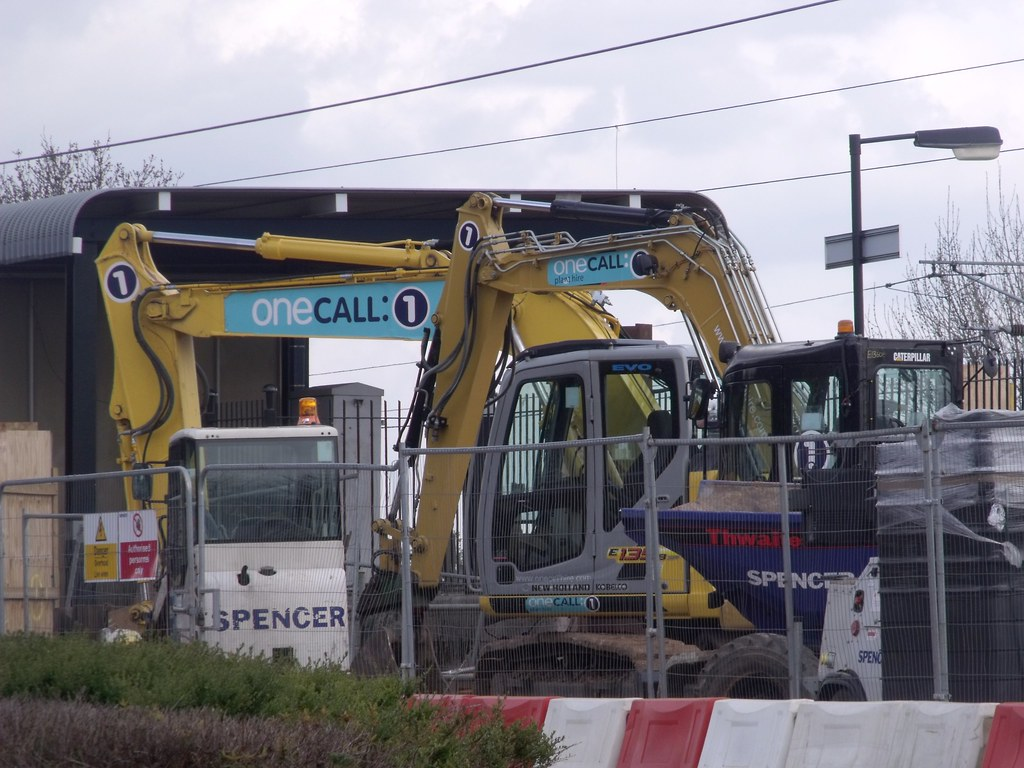excavator: (100, 225, 769, 696)
